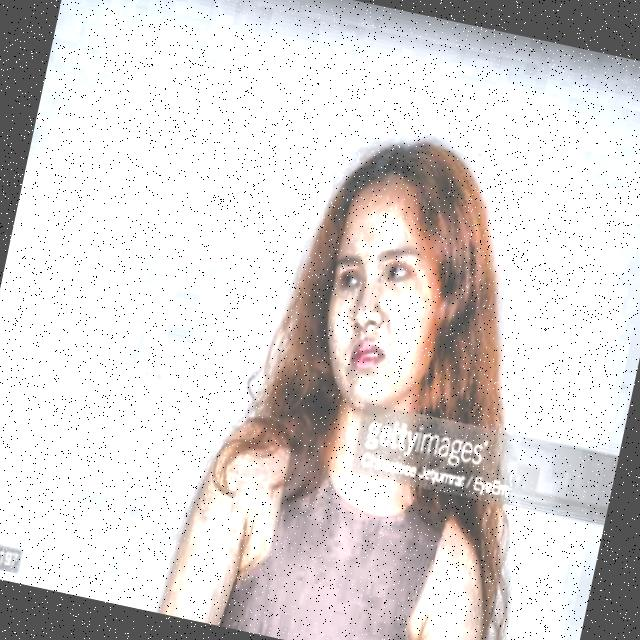disgust: (261, 108, 553, 457)
